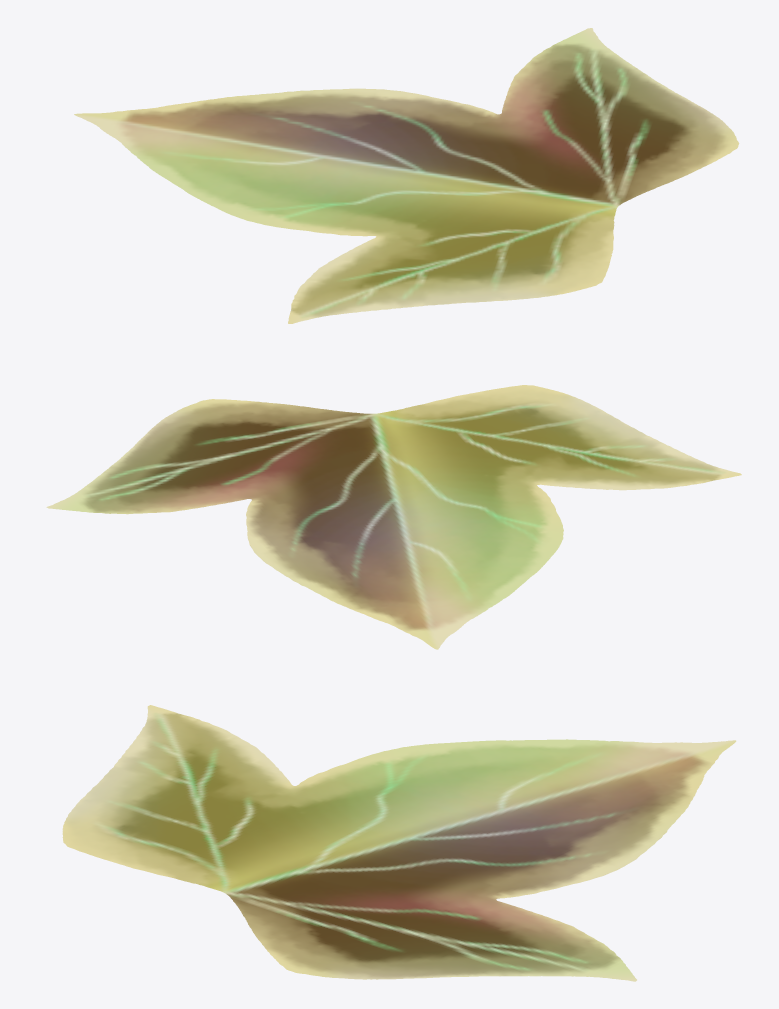
Rendered from dead_leaf_1.fbx.
The picture shows the model from 3 angles, top to bottom: view 1: azimuth 30°, elevation 25°; view 2: azimuth 150°, elevation 25°; view 3: azimuth 270°, elevation 25°; orthographic projection. The views are drawn at different scales.
Visible parts, largest first — view 1: dead_leaf_1; view 2: dead_leaf_1; view 3: dead_leaf_1.
Part boxes in pixels (<box>): dead_leaf_1: <box>74,28,739,323</box>; dead_leaf_1: <box>46,385,741,649</box>; dead_leaf_1: <box>62,705,736,981</box>.
Size of the model in its own units: 26.1 by 0.4085 by 27.83.
